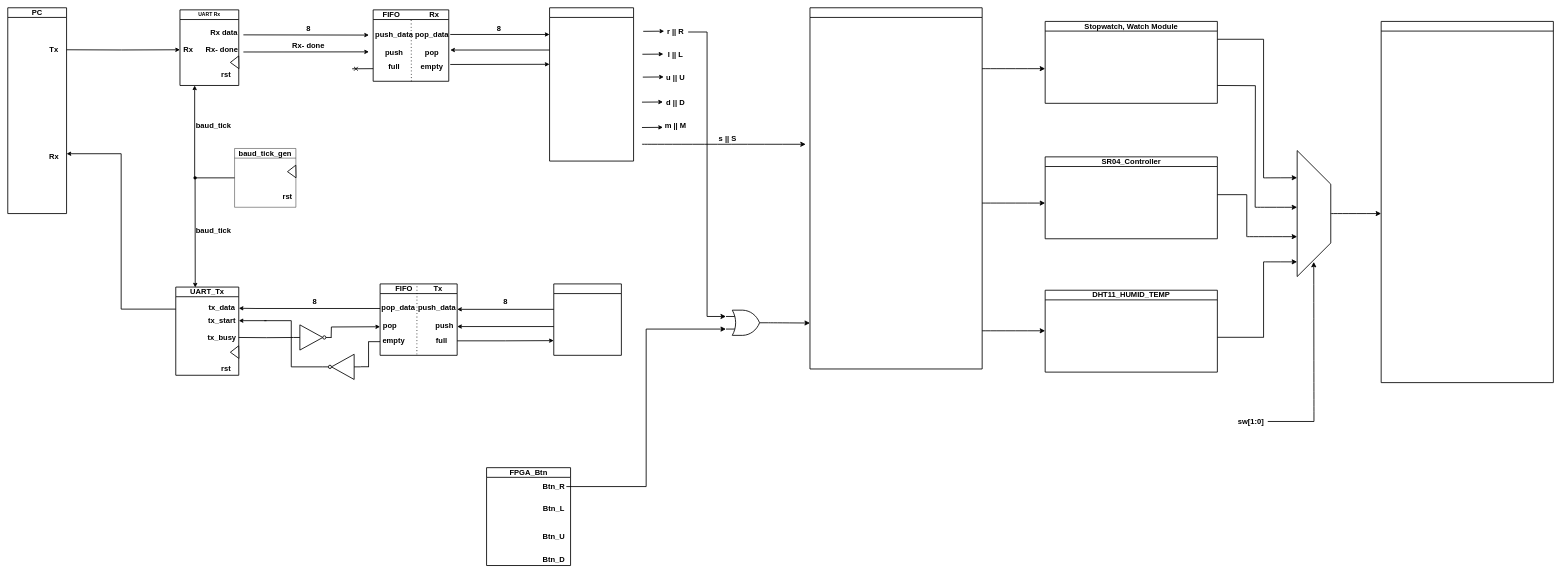
Image size: 1561x573. Some labels were removed from this diagram. Each missing label, with the centre of its shape:
ASCII_Decoder: (591,84)
ASCII_sender: (587,319)
Control_unit: (895,188)
FND: (1467,202)
